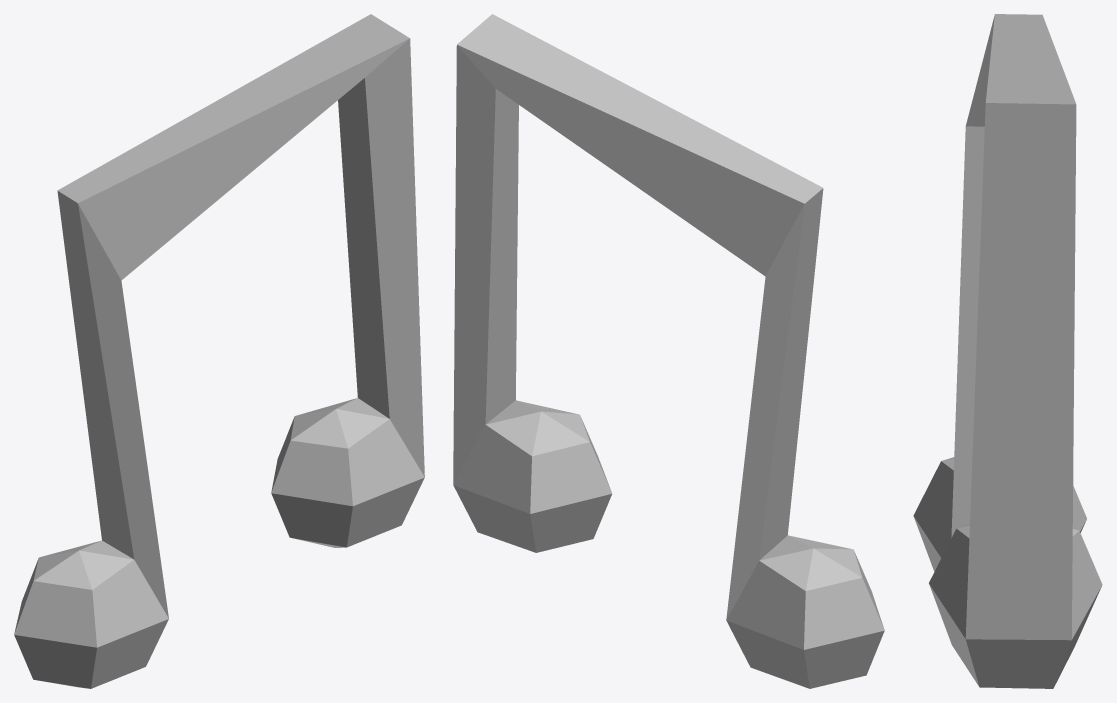
File: music_note.obj
The picture shows the model from 3 angles, left to right: view 1: azimuth 30°, elevation 25°; view 2: azimuth 150°, elevation 25°; view 3: azimuth 270°, elevation 25°; orthographic projection. The views are drawn at different scales.
Parts seen in each view (by area): view 1: OPT_MUSIC; view 2: OPT_MUSIC; view 3: OPT_MUSIC.
Part boxes in pixels (bbox=[...]): OPT_MUSIC: bbox=[14, 14, 424, 688]; OPT_MUSIC: bbox=[453, 14, 884, 688]; OPT_MUSIC: bbox=[913, 14, 1102, 688].
Size of the model in its own units: 5.7 by 7.88 by 1.92.
Materials: 1 (1 with a texture image).
